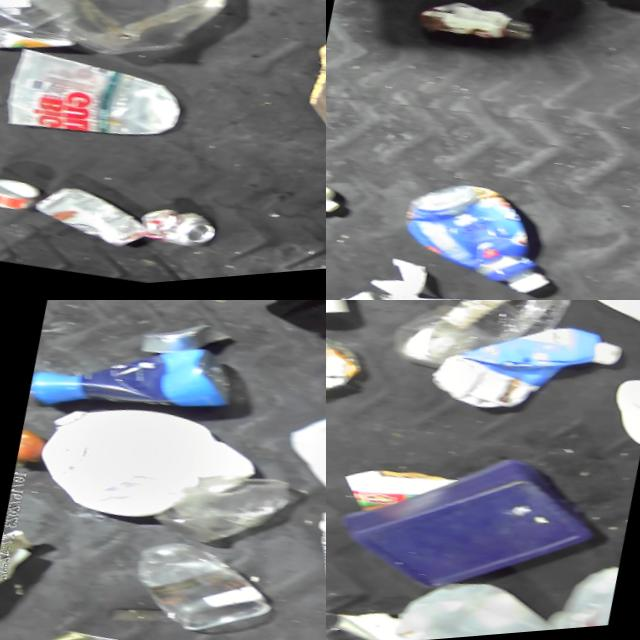can: (20, 179, 147, 262), (0, 607, 209, 640), (130, 205, 214, 262)
milk_jug: (28, 386, 262, 551), (392, 569, 569, 640), (265, 385, 326, 557), (531, 562, 616, 640)
non_white_jug: (25, 315, 242, 442), (387, 169, 563, 300)
plastic_bottle: (379, 300, 589, 411)
